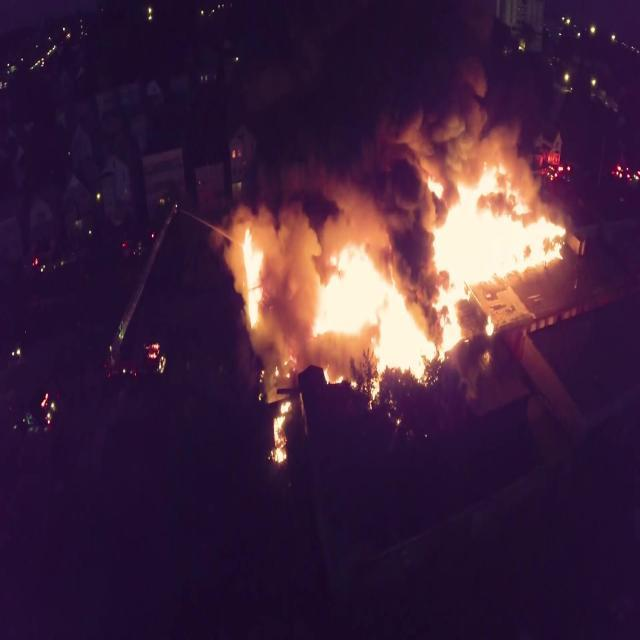Fire: (312, 243, 446, 387), (436, 165, 554, 287), (236, 231, 287, 347)
Smoke: (287, 0, 421, 224)
